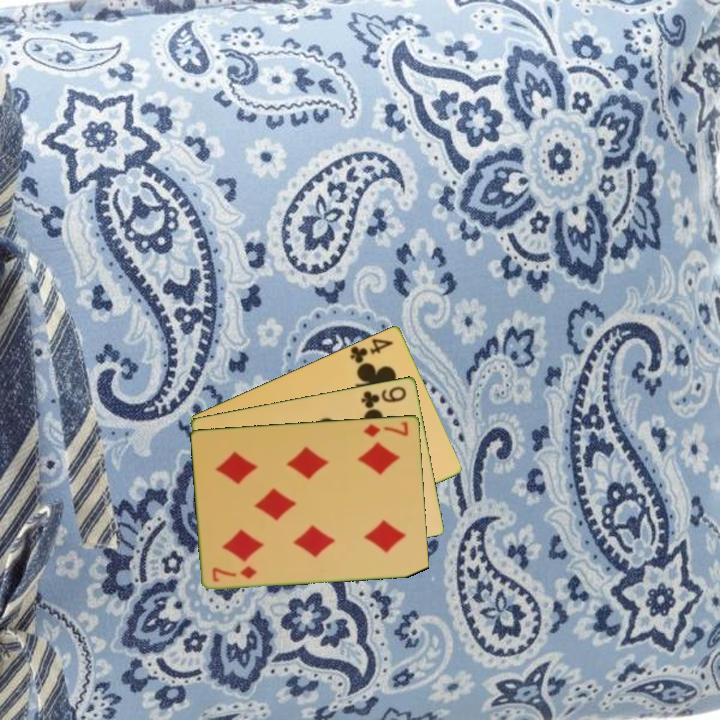4c: (347, 335, 396, 366)
7d: (360, 417, 411, 439), (209, 562, 260, 584)
9c: (358, 382, 409, 411)
